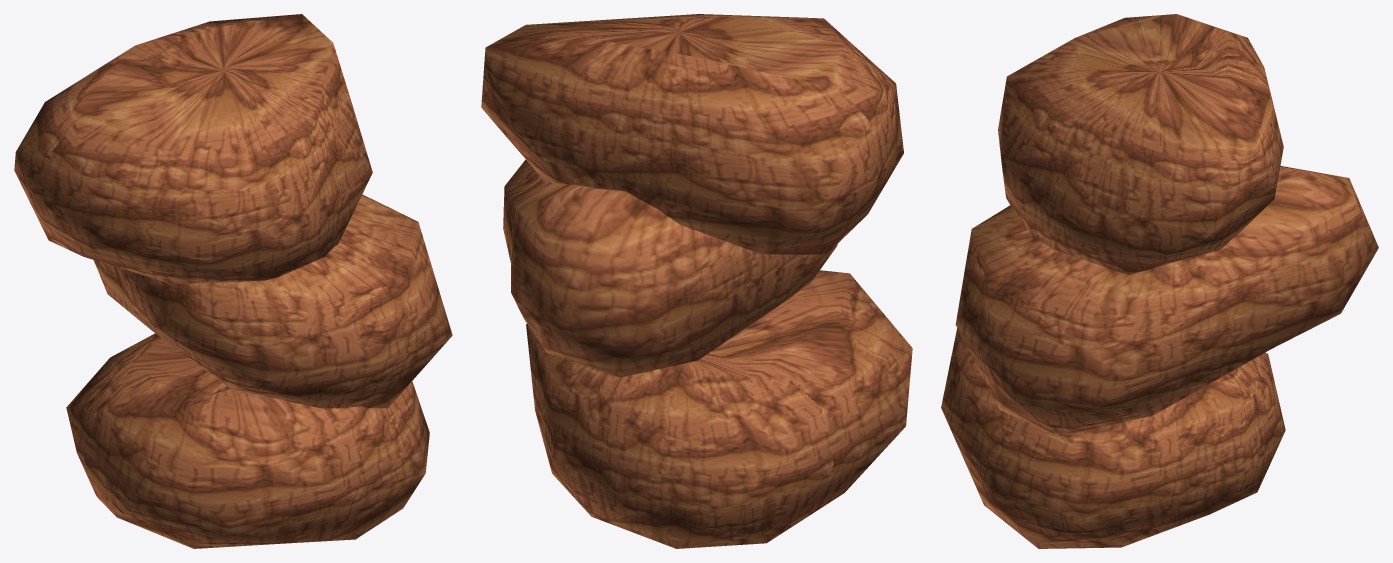
Rendered from rock1.glb.
The picture shows the model from 3 angles, left to right: view 1: azimuth 30°, elevation 25°; view 2: azimuth 150°, elevation 25°; view 3: azimuth 270°, elevation 25°; orthographic projection. The views are drawn at different scales.
Visible parts, largest first — view 1: Icosphere.002, Icosphere, Icosphere.001; view 2: Icosphere.002, Icosphere, Icosphere.001; view 3: Icosphere.001, Icosphere.002, Icosphere.
Boxes of the visible parts, x1,y1,x2,y2 form: Icosphere.002: (14, 14, 372, 284); Icosphere: (66, 333, 429, 548); Icosphere.001: (93, 194, 452, 408); Icosphere.002: (481, 14, 903, 254); Icosphere: (526, 270, 912, 548); Icosphere.001: (503, 159, 837, 377); Icosphere.001: (955, 166, 1378, 436); Icosphere.002: (998, 14, 1283, 274); Icosphere: (941, 328, 1285, 548).
Size of the model in its own units: 297 by 347 by 309.
1 material, 1 textured.
